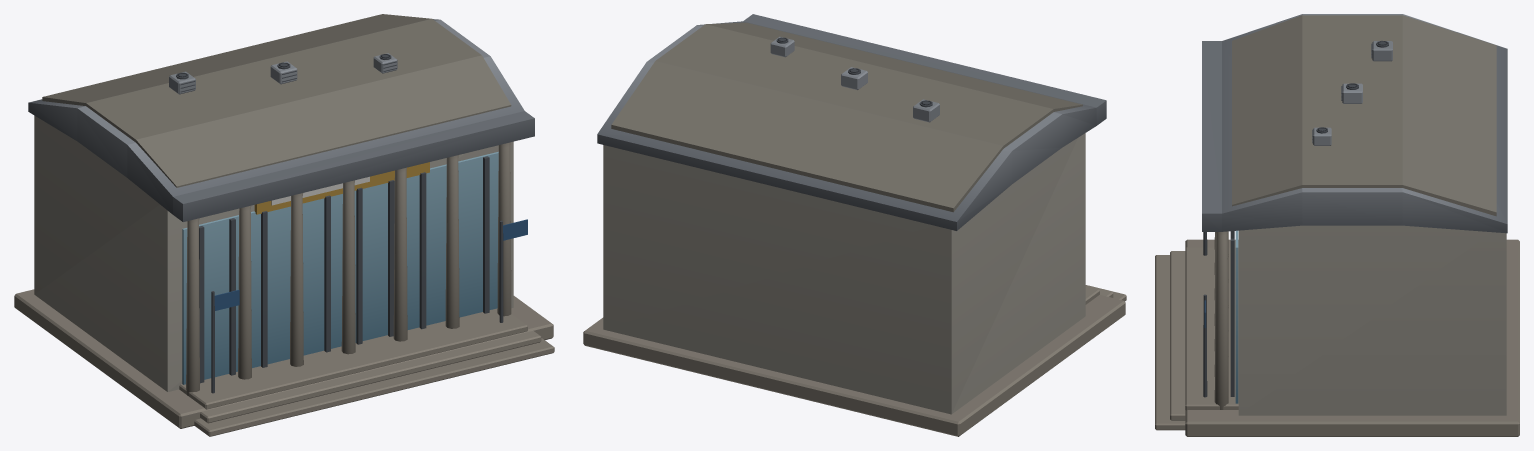
Rendered from convention_megastructure_01.glb.
3 renders of one model, left to right at view 1: azimuth 30°, elevation 25°; view 2: azimuth 150°, elevation 25°; view 3: azimuth 270°, elevation 25°, orthographic.
Visible parts, largest first — view 1: convention_megastructure_01; view 2: convention_megastructure_01; view 3: convention_megastructure_01.
Boxes of the visible parts, <box> form: convention_megastructure_01: <box>14,14,554,436</box>; convention_megastructure_01: <box>583,14,1126,436</box>; convention_megastructure_01: <box>1155,14,1519,436</box>.
Size of the model in its own units: 13 by 8.59 by 10.9.
